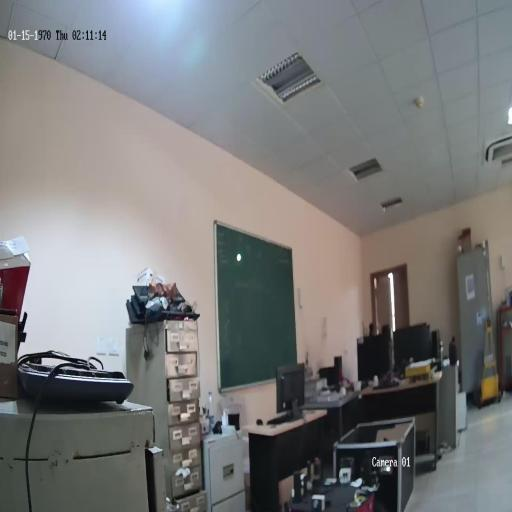laser: (236, 251, 241, 262)
